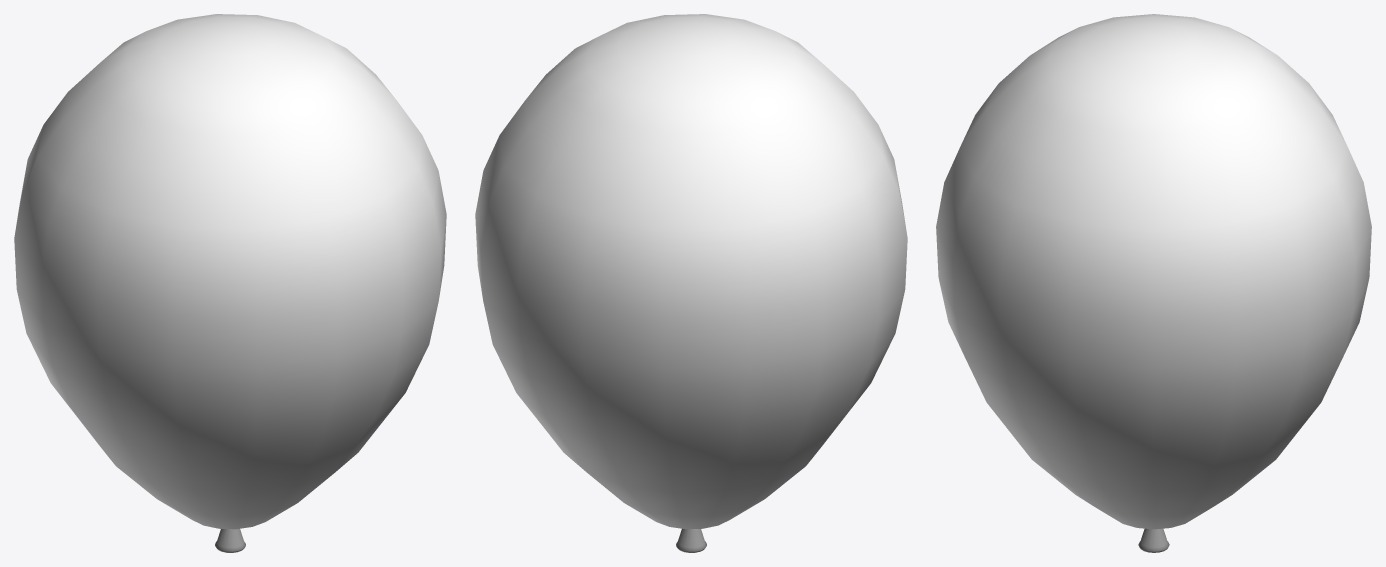
Rendered from PartyBalloons03_1.FBX.
3 views of the same model, side by side, from view 1: azimuth 30°, elevation 25°; view 2: azimuth 150°, elevation 25°; view 3: azimuth 270°, elevation 25° (orthographic).
Visible parts, largest first — view 1: PartyBalloons03_1; view 2: PartyBalloons03_1; view 3: PartyBalloons03_1.
Part boxes in pixels (x1,y1,x2,y2): PartyBalloons03_1: (14, 14, 446, 552); PartyBalloons03_1: (475, 14, 907, 552); PartyBalloons03_1: (936, 14, 1371, 552).
Size of what is drawn, in the model's own units: 0.3546 by 0.4578 by 0.3546.
